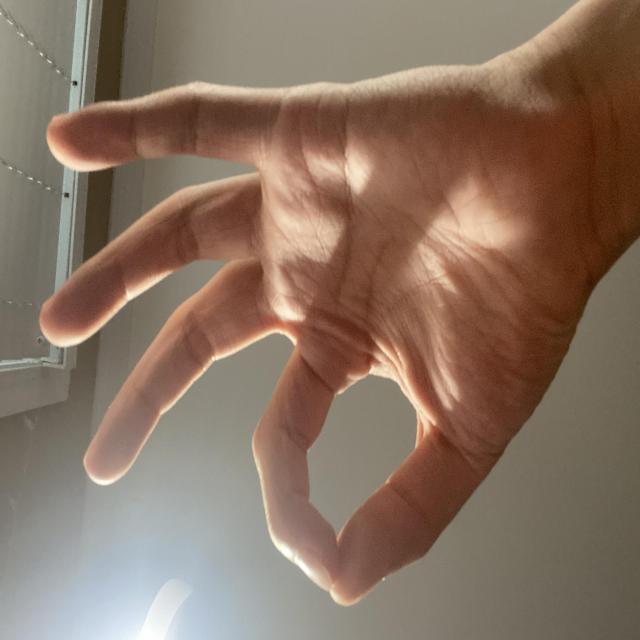F: (19, 46, 438, 640)
